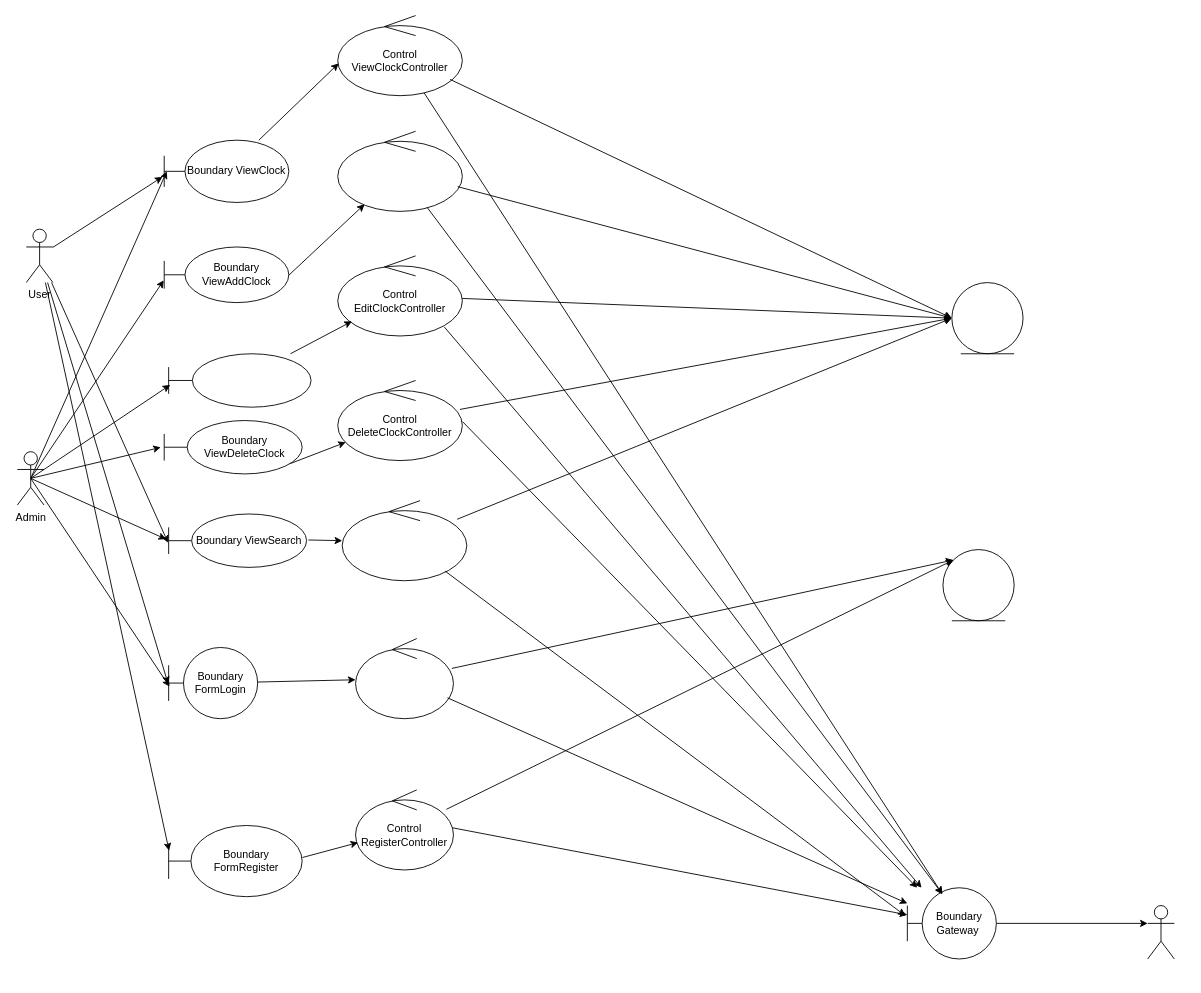
Some shapes in this 1201 by 993 pixel diagram are drawn without their labels. Here are the shapes that lost their labels. From the top down, the centre of each, then its label:
point (399, 170): Control AddClockController
point (987, 318): Entity Clock
point (239, 380): Boundary ViewEditClock
point (404, 540): Control SearchController
point (978, 585): Entity User
point (404, 678): Control LoginController
point (1160, 932): Database
